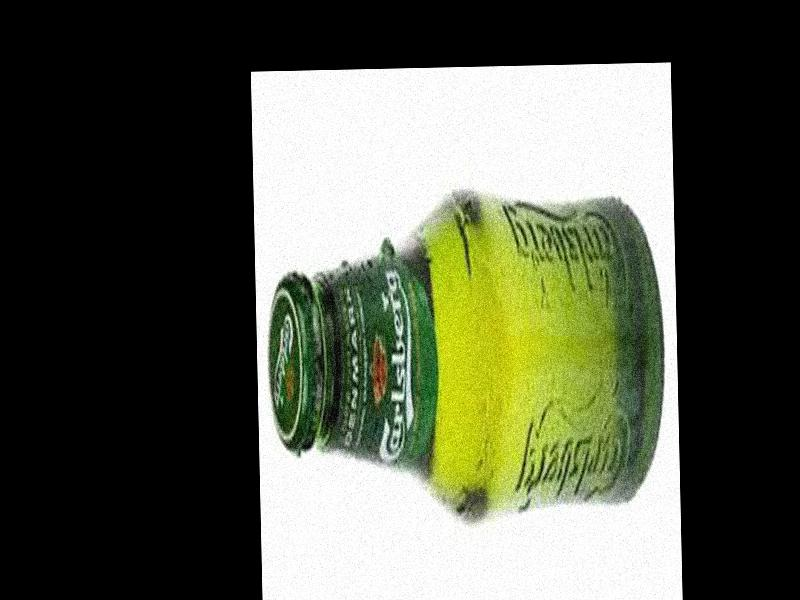Beer: (265, 188, 669, 518)
